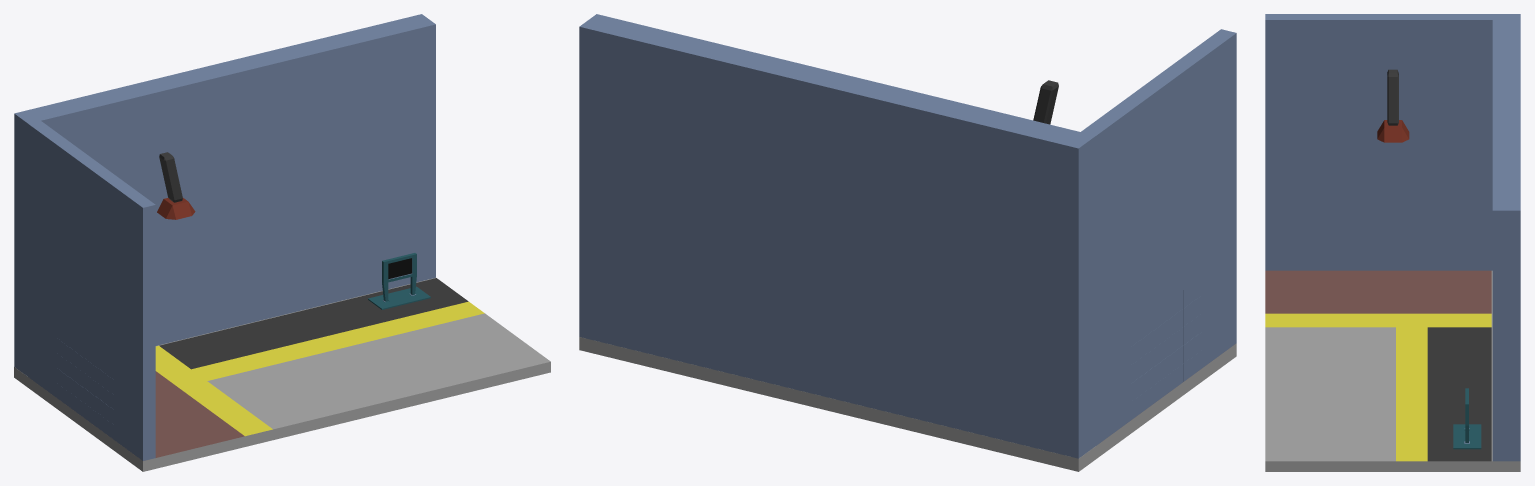
File: startplatform.fbx
3 renders of one model, left to right at view 1: azimuth 30°, elevation 25°; view 2: azimuth 150°, elevation 25°; view 3: azimuth 270°, elevation 25°, orthographic. The views are drawn at different scales.
Parts seen in each view (by area): view 1: FrontWall, Floor, LeftWall, Tablo, Lamp; view 2: FrontWall, LeftWall, Floor, Lamp; view 3: LeftWall, Floor, FrontWall, Lamp, Tablo, Cube.015, Cube.021, Cube.017, Cube, Cube.001, Cube.002, Cube.012 (+14 smaller).
Part boxes in pixels (x1,y1,x2,y2): FrontWall: [14, 14, 435, 376]; Floor: [14, 277, 550, 471]; LeftWall: [28, 121, 155, 460]; Tablo: [368, 253, 430, 309]; Lamp: [157, 152, 195, 219]; FrontWall: [579, 14, 1095, 458]; LeftWall: [1081, 29, 1236, 445]; Floor: [579, 337, 1236, 471]; Lamp: [1033, 80, 1058, 124]; LeftWall: [1265, 14, 1492, 270]; Floor: [1265, 270, 1520, 471]; FrontWall: [1492, 14, 1520, 461]; Lamp: [1377, 69, 1409, 142]; Tablo: [1453, 388, 1481, 449]; Cube.015: [1364, 181, 1392, 196]; Cube.021: [1322, 255, 1350, 270]; Cube.017: [1322, 196, 1350, 211]; Cube: [1379, 255, 1406, 270]; Cube.001: [1407, 255, 1434, 270]; Cube.002: [1351, 255, 1378, 270]; Cube.012: [1379, 196, 1406, 211].
Bounding box in the file's own units: 3322 × 2055 × 1820.
